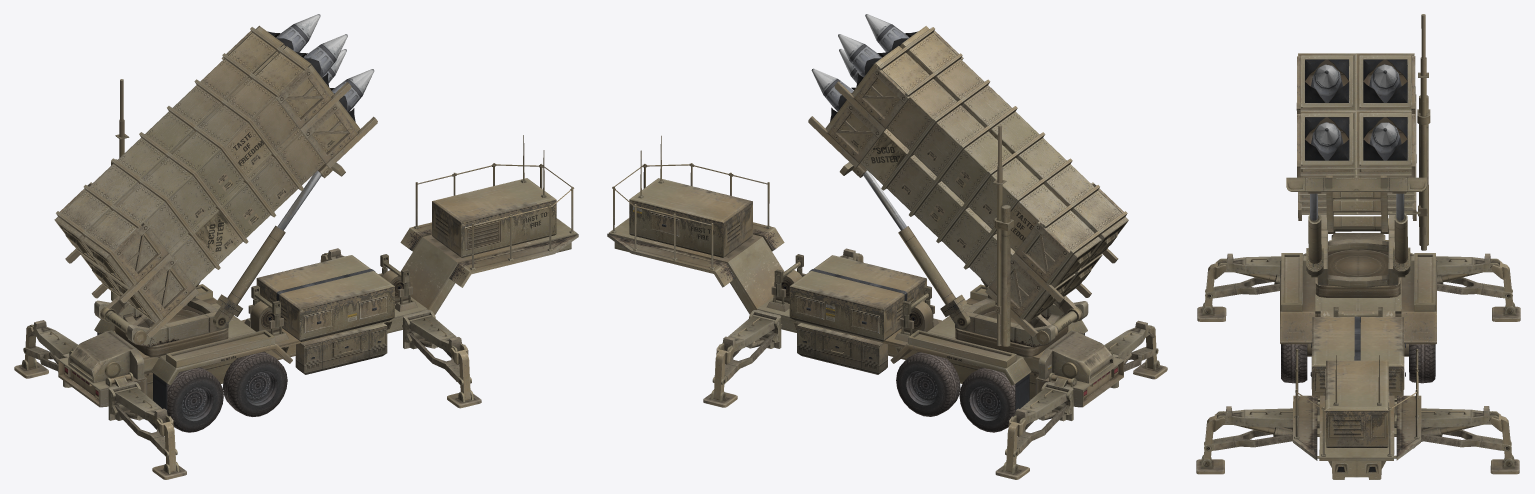
The picture shows the model from 3 angles, left to right: view 1: azimuth 30°, elevation 25°; view 2: azimuth 150°, elevation 25°; view 3: azimuth 270°, elevation 25°; orthographic projection. The views are drawn at different scales.
Parts seen in each view (by area): view 1: Object_4, Object_3, Object_2; view 2: Object_4, Object_3, Object_2; view 3: Object_3, Object_4, Object_2.
Part boxes in pixels (x1=…): Object_4: x1=54, y1=14, x2=377, y2=344; Object_3: x1=14, y1=135, x2=578, y2=479; Object_2: x1=167, y1=351, x2=287, y2=432; Object_4: x1=808, y1=14, x2=1128, y2=346; Object_3: x1=607, y1=135, x2=1167, y2=479; Object_2: x1=896, y1=352, x2=1015, y2=432; Object_3: x1=1196, y1=215, x2=1520, y2=479; Object_4: x1=1286, y1=14, x2=1430, y2=277; Object_2: x1=1281, y1=344, x2=1435, y2=383.
Size of the model in its own units: 1022 by 697 by 561.
Materials: 2 (2 with a texture image).
